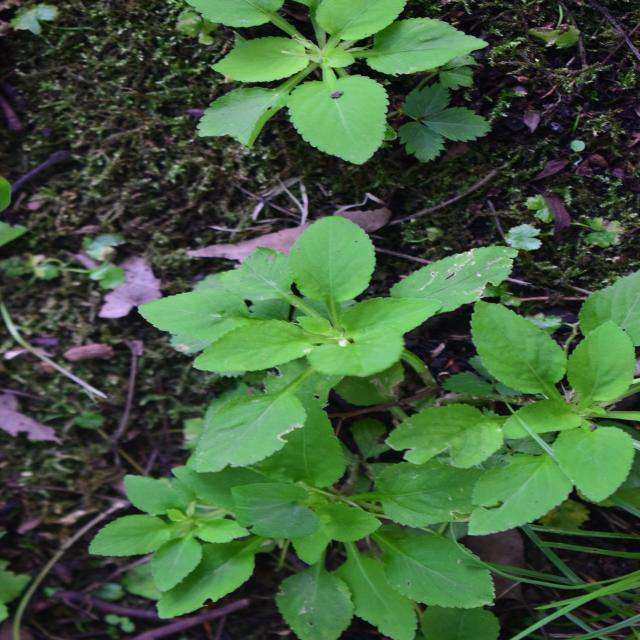Viola: (0, 112, 242, 472), (228, 161, 446, 488), (462, 179, 640, 423)
